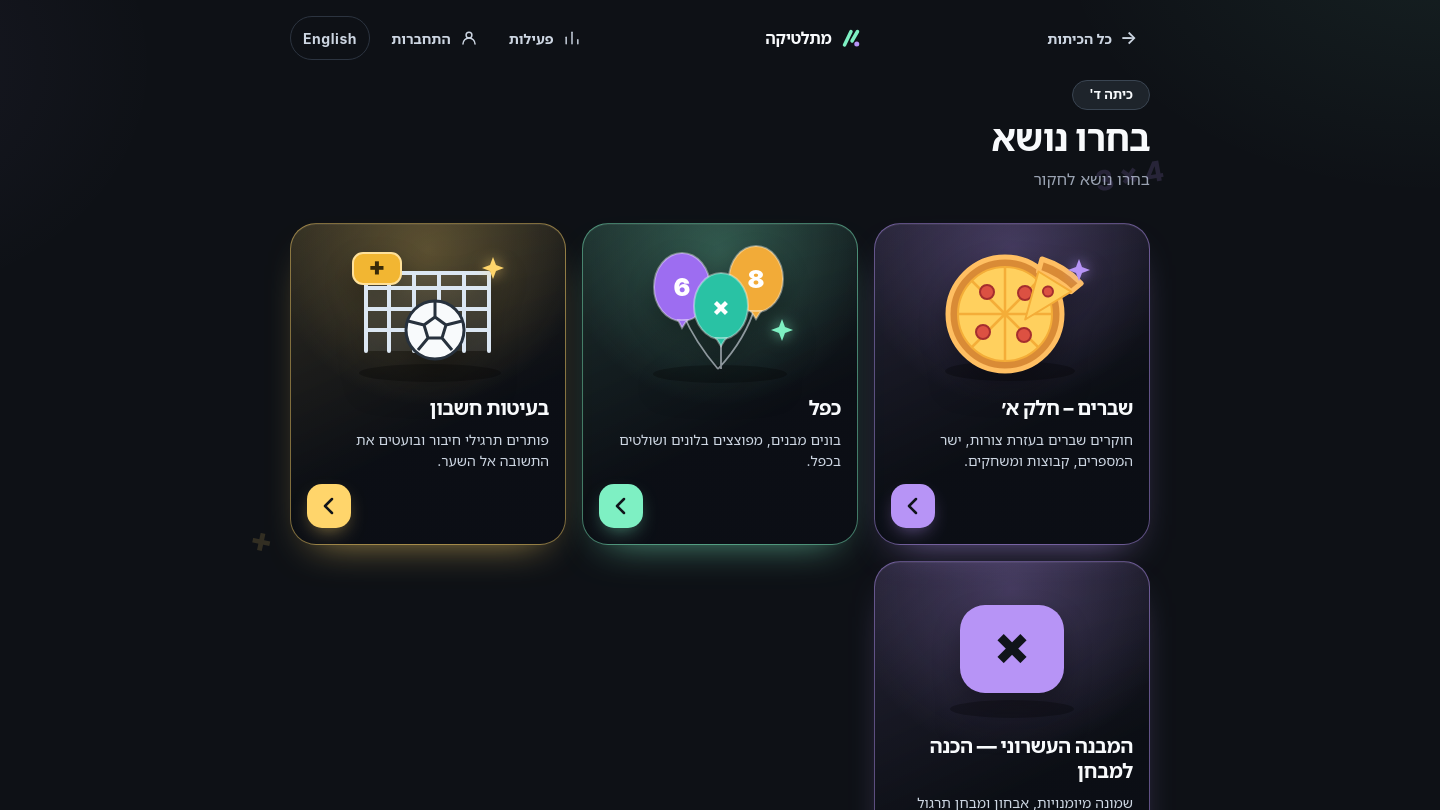
Scenario: Mathletica shell › keeps Grade 4 activities reachable, including the Monkey Balloon Shooter
Click the link "6 8 × כפל בונים מבנים, מפוצצים בלונים ושולטים בכפל.".
click(720, 384)  # box [582,223,858,545]
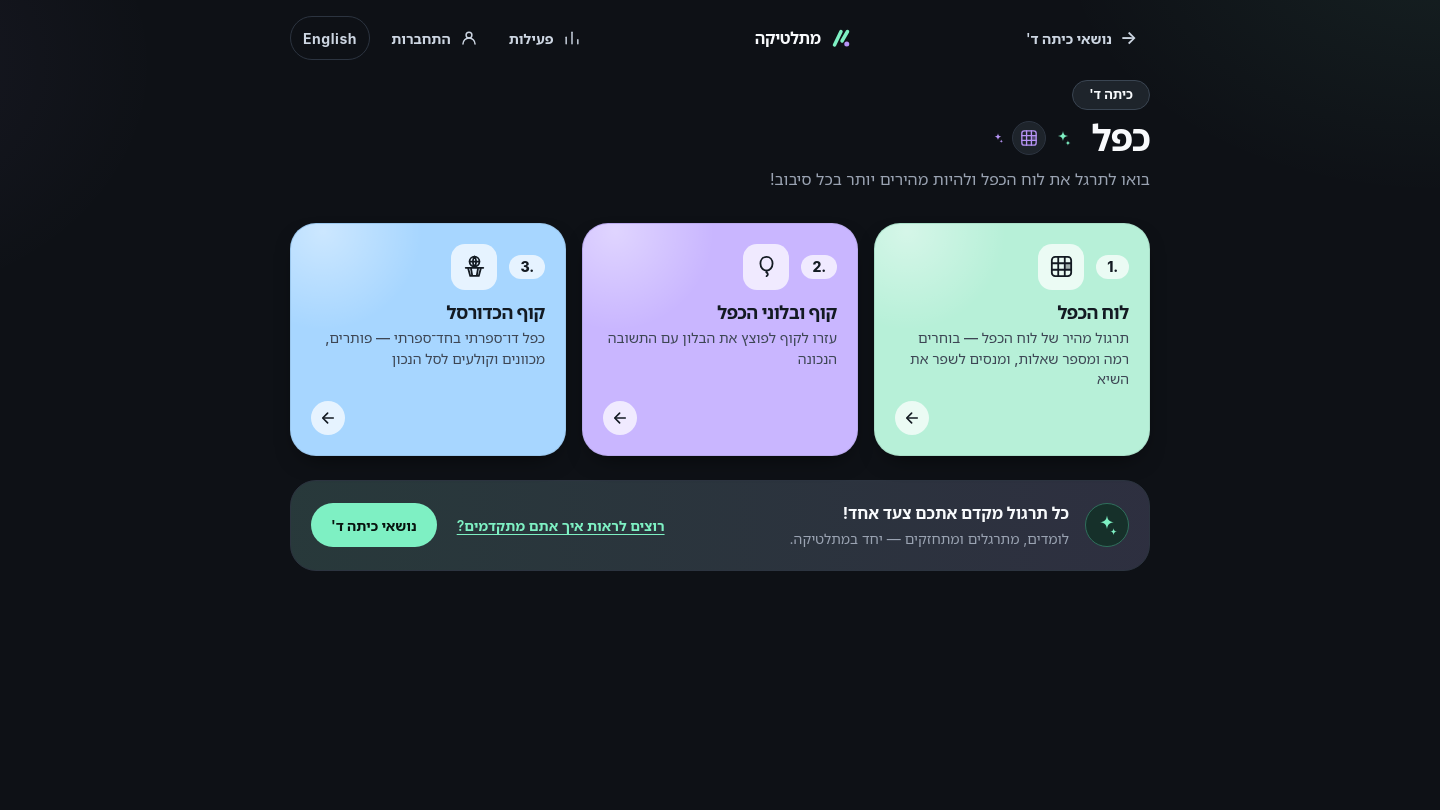
Click the link "2. קוף ובלוני הכפל עזרו לקוף לפוצץ את הבלון עם התשובה הנכונה".
click(720, 340)  # box [582,223,858,456]
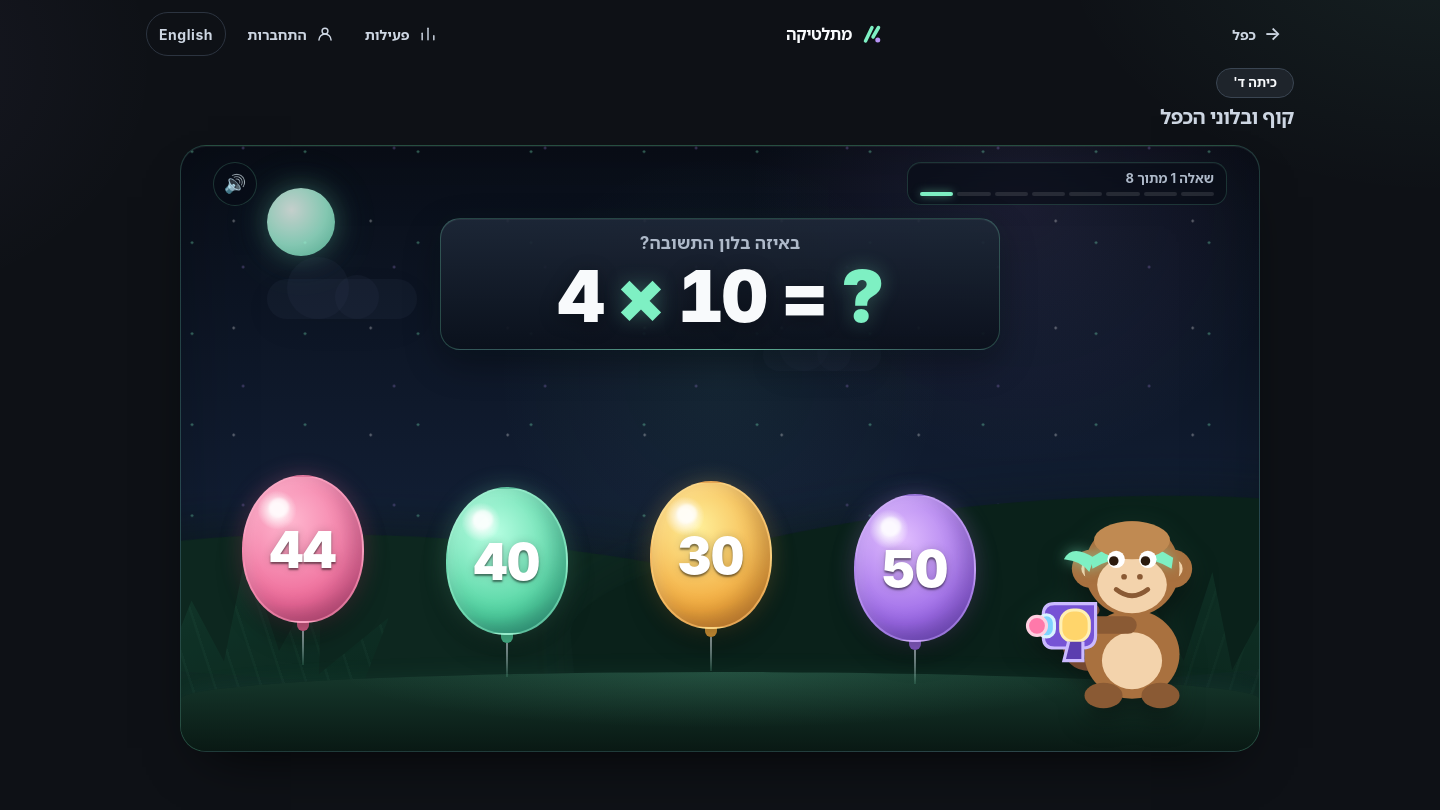
Result: the heading reads "קוף ובלוני הכפל" at [1160,104,1294,128]
